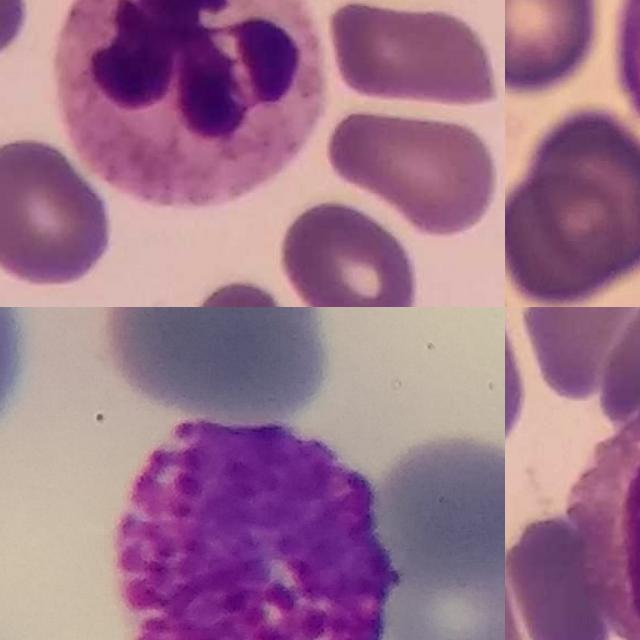Basophil: (115, 415, 403, 640)
Eosinophil: (569, 385, 640, 640)
Neutrophil: (54, 0, 327, 204)
